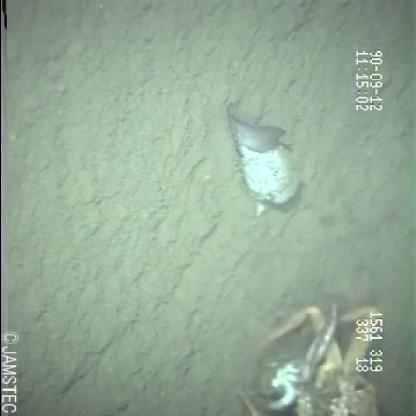Bio: (230, 298, 387, 415), (214, 100, 307, 218)
